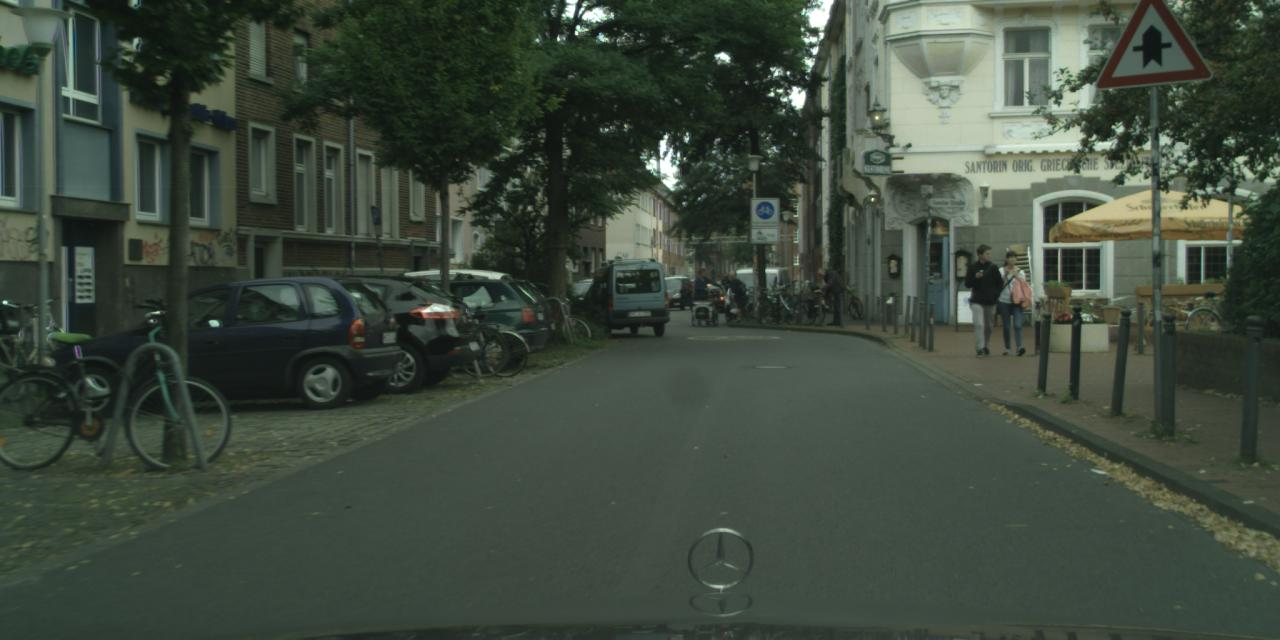ped: (961, 244, 1006, 356), (991, 250, 1032, 354), (815, 267, 838, 325), (691, 267, 714, 324), (679, 277, 692, 309), (720, 274, 732, 306)
